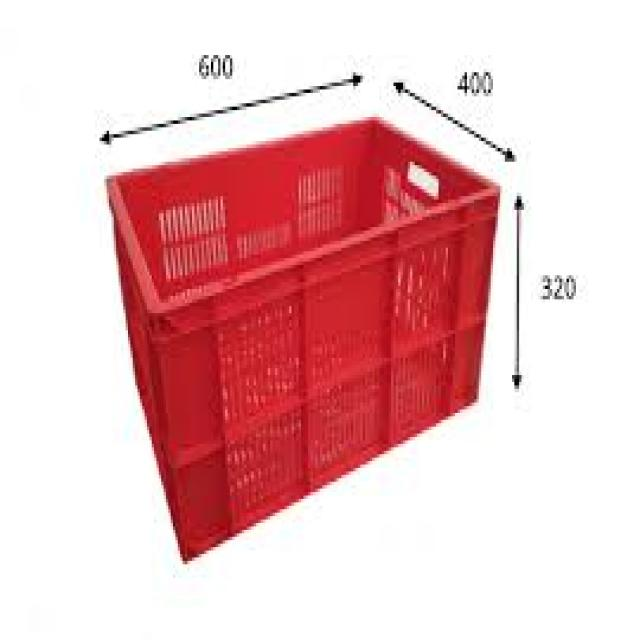basket: (8, 16, 585, 561)
